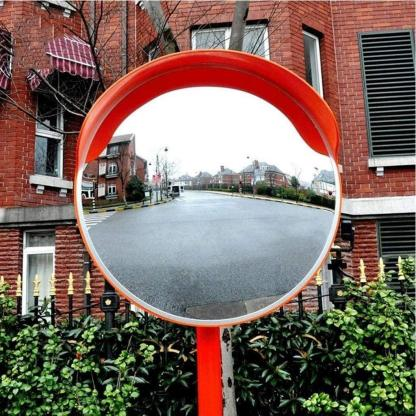other: (144, 100, 262, 158)
